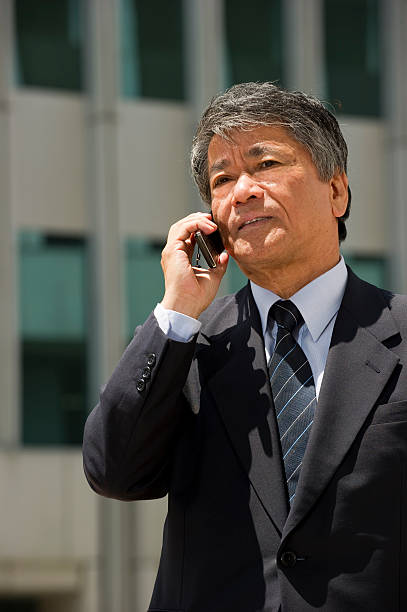phone: (173, 213, 233, 288)
talk: (146, 141, 319, 309)
